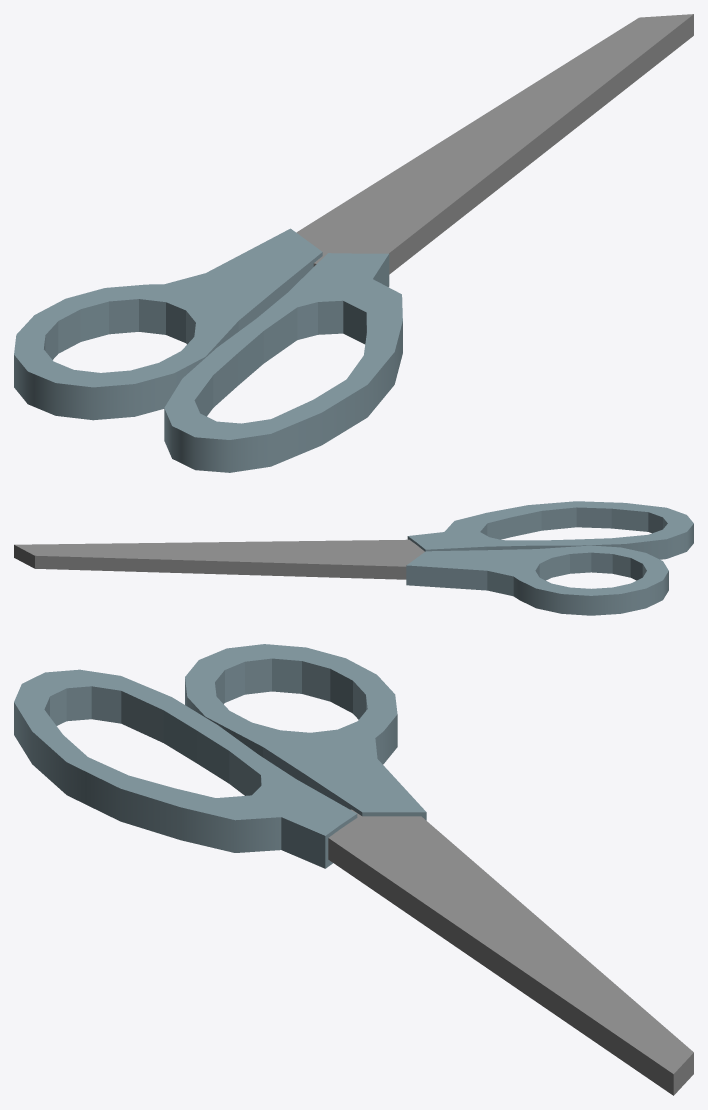
Rendered from scissors_INT.fbx.
3 views of the same model, one above another, from view 1: azimuth 30°, elevation 25°; view 2: azimuth 150°, elevation 25°; view 3: azimuth 270°, elevation 25° (orthographic). The views are drawn at different scales.
Parts seen in each view (by area): view 1: pCylinder23, pCube53; view 2: pCylinder23, pCube53; view 3: pCylinder23, pCube53.
Boxes of the visible parts, bbox=[...] form: pCylinder23: bbox=[14, 228, 402, 472]; pCube53: bbox=[296, 14, 693, 274]; pCylinder23: bbox=[406, 501, 693, 615]; pCube53: bbox=[14, 539, 424, 579]; pCylinder23: bbox=[14, 644, 426, 868]; pCube53: bbox=[328, 809, 693, 1095].
Bounding box in the file's own units: 1.93 × 0.0697 × 1.3.
